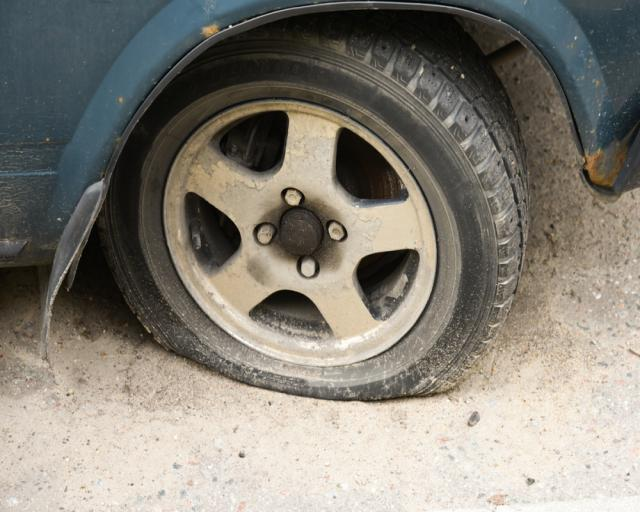tire flat: (97, 10, 528, 403)
